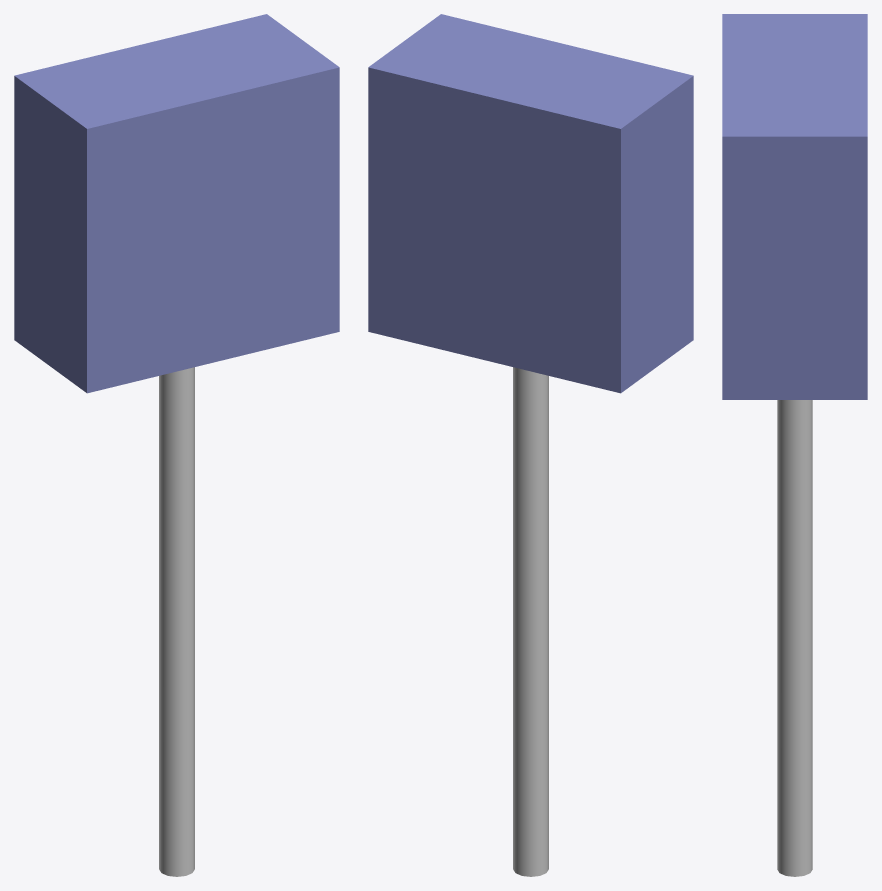
Rendered from 3D_LollyPop_Sqaure_Blue.FBX.
The picture shows the model from 3 angles, left to right: view 1: azimuth 30°, elevation 25°; view 2: azimuth 150°, elevation 25°; view 3: azimuth 270°, elevation 25°; orthographic projection.
Visible parts, largest first — view 1: 3D_LolyPop_Square_Blue; view 2: 3D_LolyPop_Square_Blue; view 3: 3D_LolyPop_Square_Blue.
Part boxes in pixels (x1,y1,x2,y2): 3D_LolyPop_Square_Blue: (14,14,339,876); 3D_LolyPop_Square_Blue: (368,14,693,876); 3D_LolyPop_Square_Blue: (722,14,867,876).
Size of the model in its own units: 20 by 60.36 by 10.
